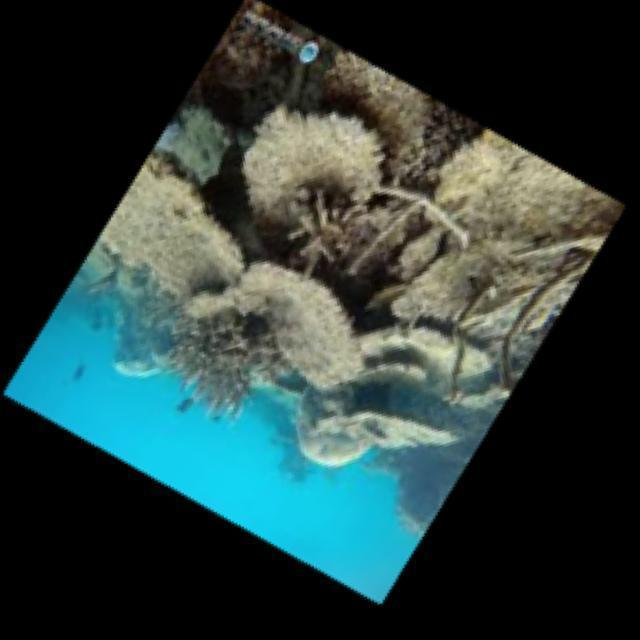Dead Coral: (346, 123, 600, 376), (267, 306, 525, 503), (159, 225, 383, 446), (217, 75, 407, 290), (97, 121, 263, 342)
